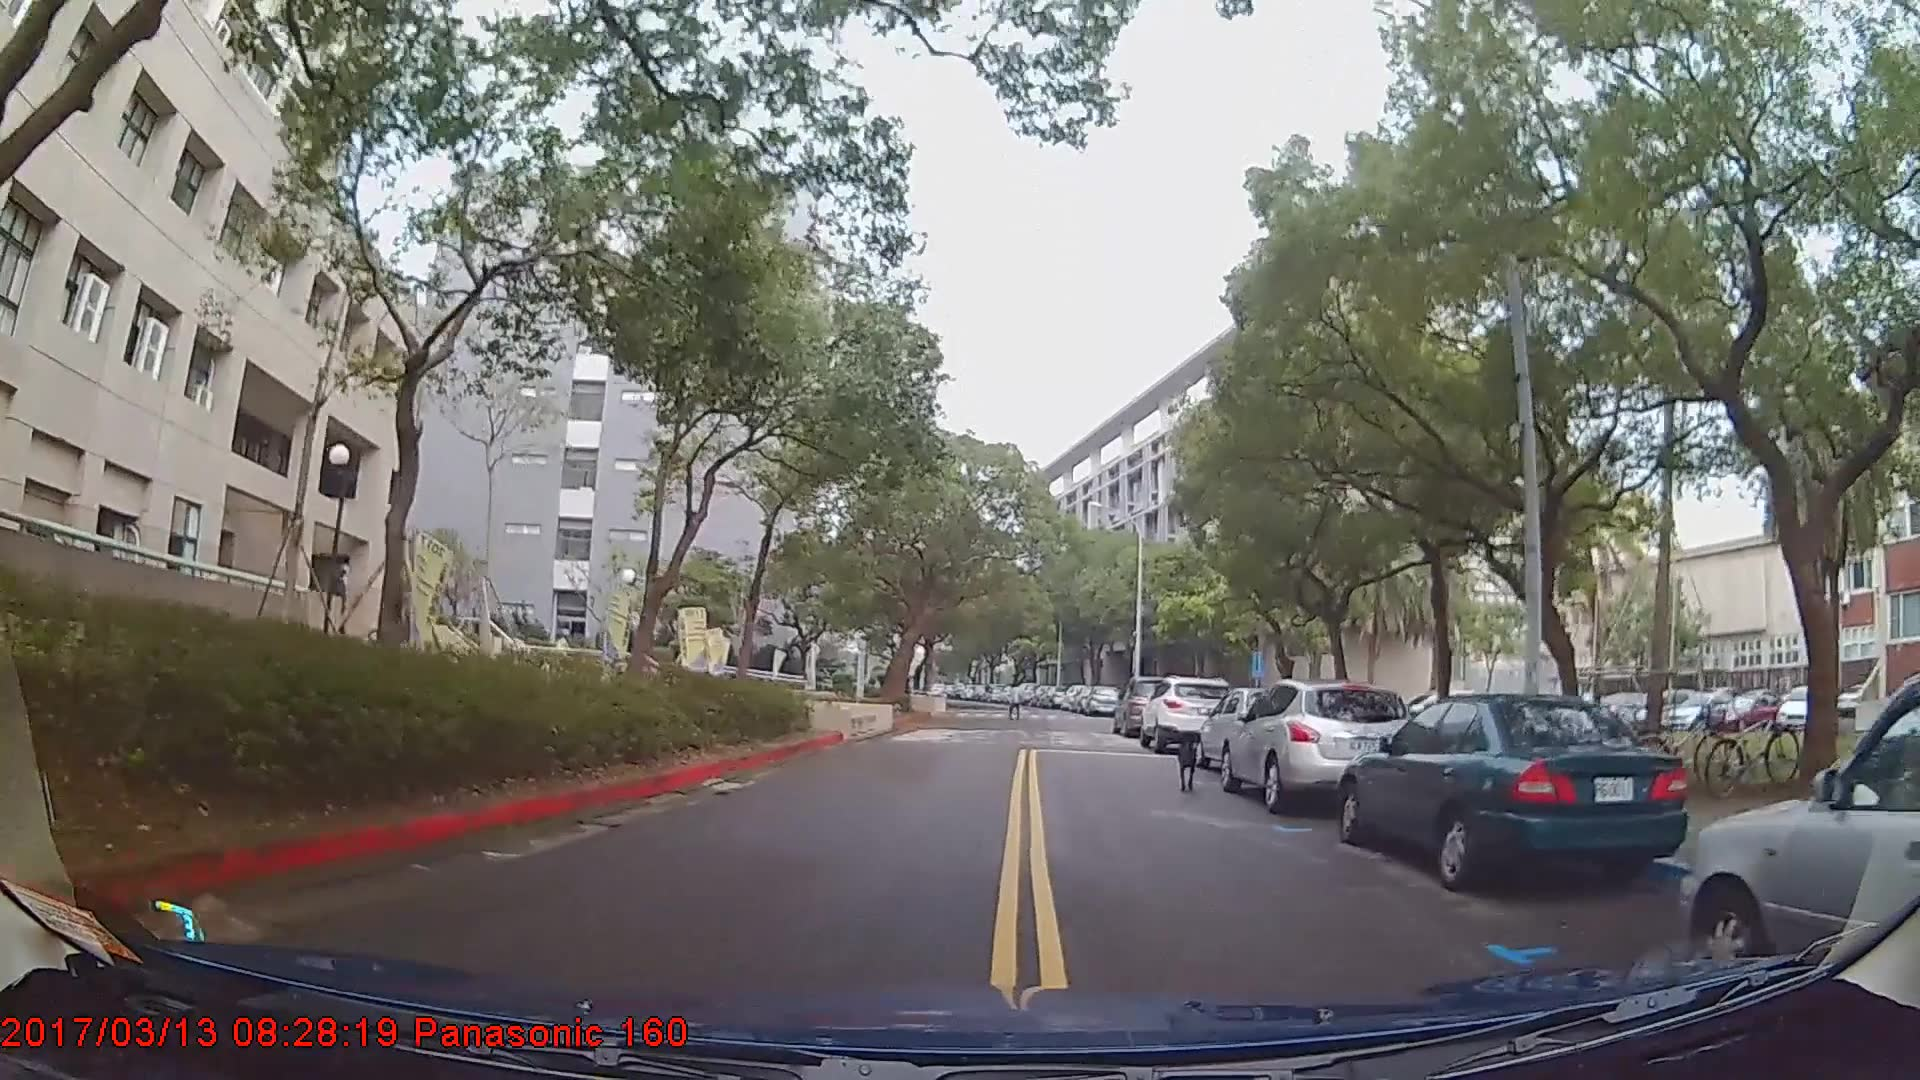pedestrian: (1004, 682, 1024, 722)
vehicle: (1680, 676, 1920, 994), (1336, 689, 1691, 892), (1216, 677, 1413, 812), (1140, 674, 1236, 751), (1113, 676, 1185, 739), (1082, 680, 1121, 713)
